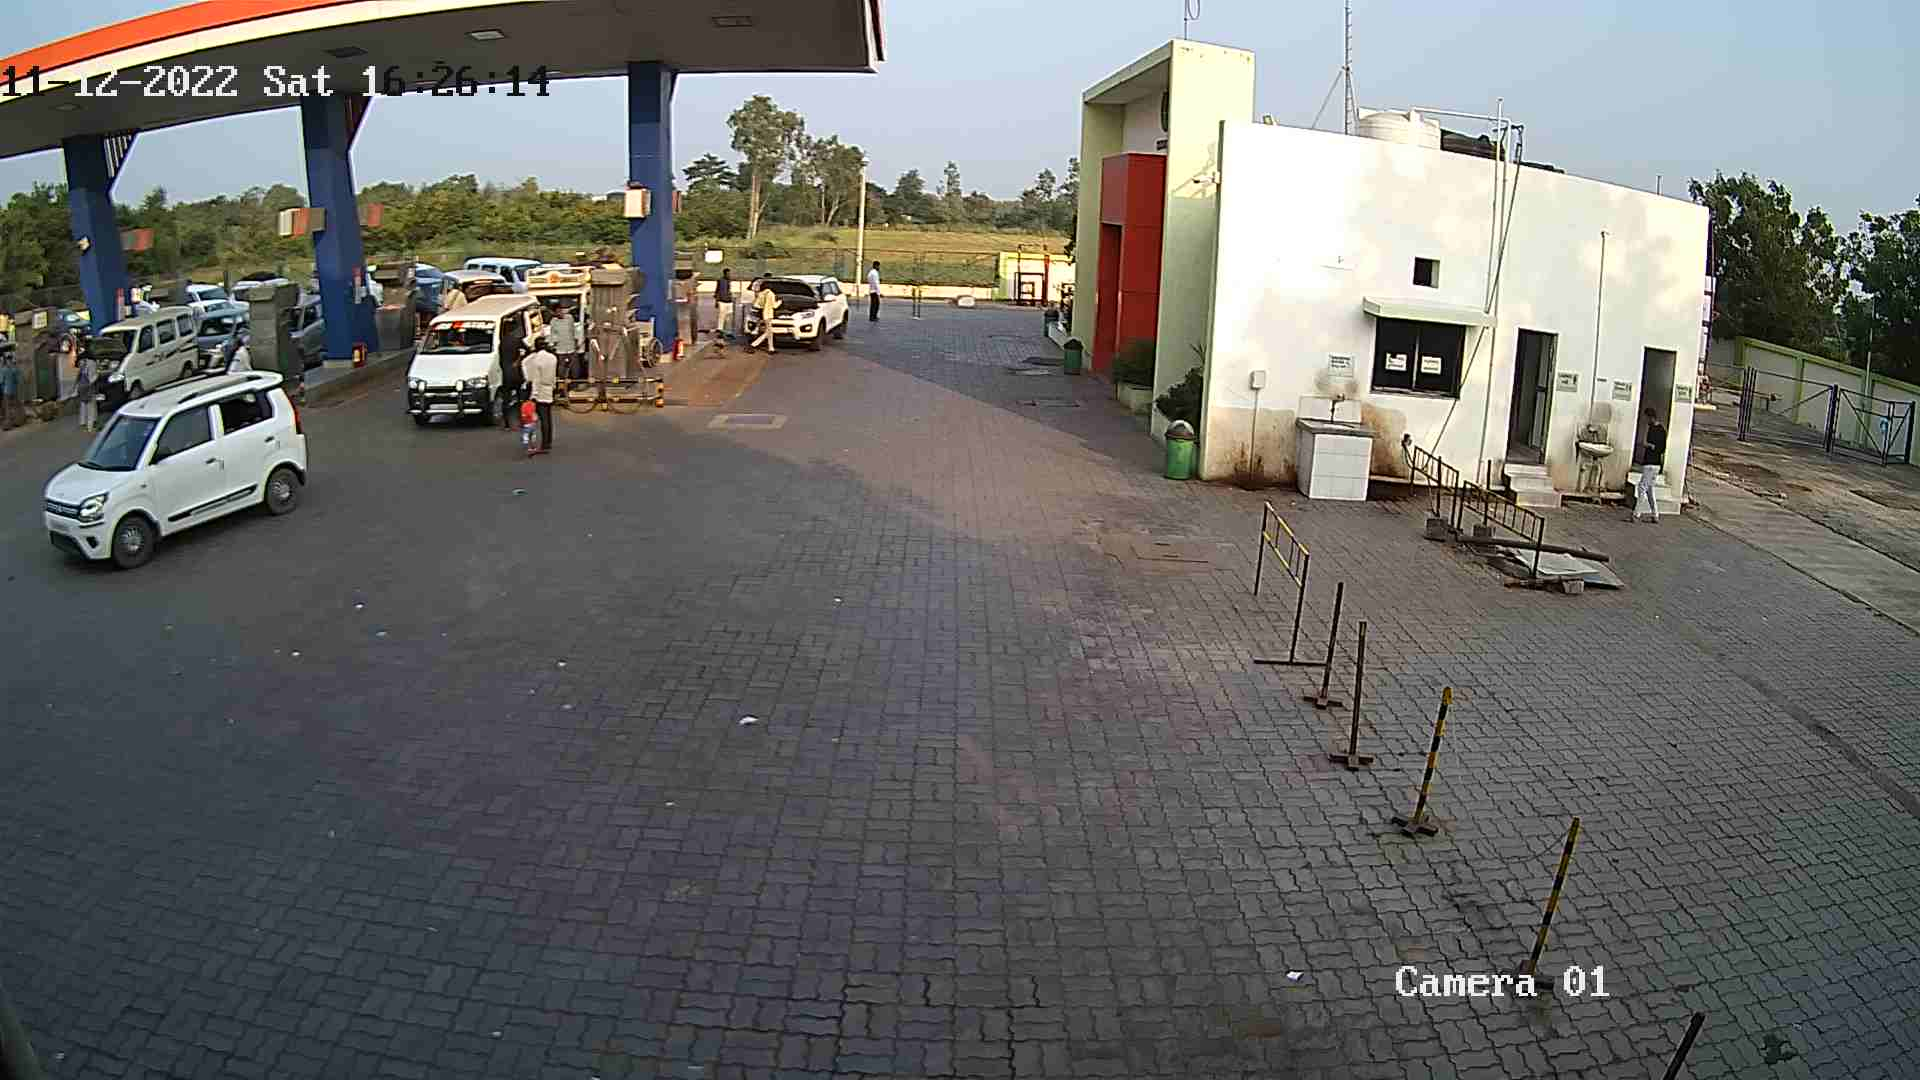Car: (29, 363, 315, 575), (398, 286, 554, 431), (71, 297, 206, 417), (516, 241, 617, 398), (729, 266, 858, 356), (187, 295, 261, 382), (427, 264, 518, 320), (402, 257, 447, 347), (282, 287, 330, 372), (462, 252, 541, 299)
